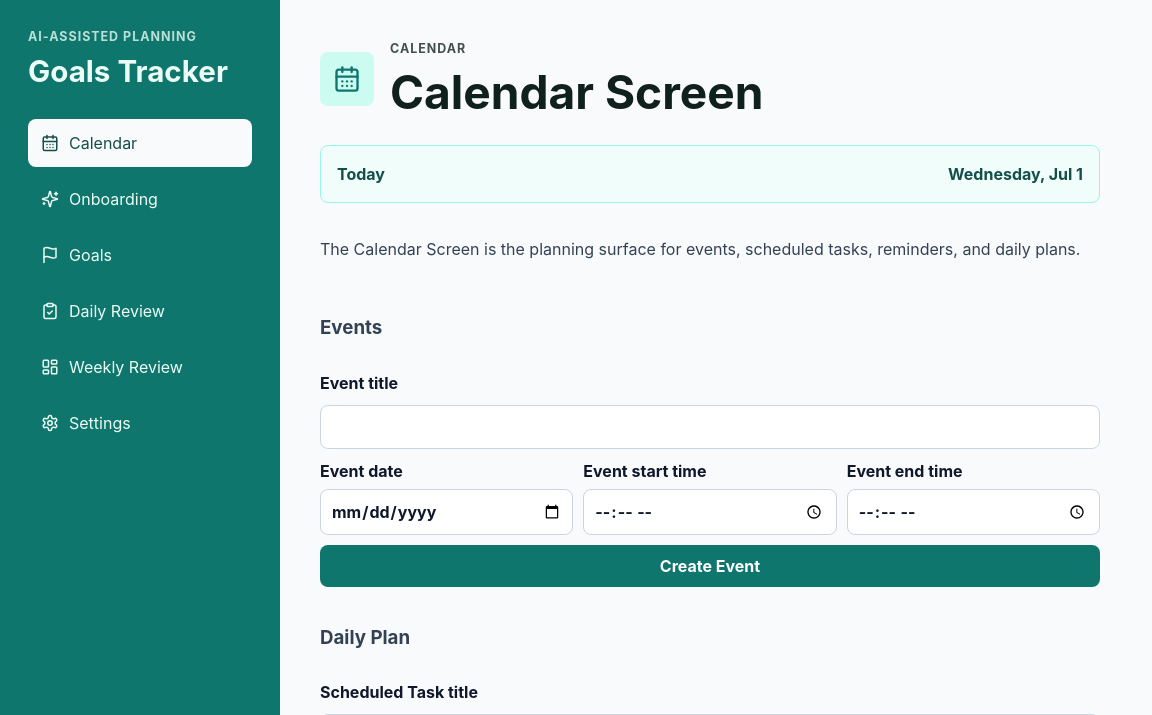
Test: Goals Tracker app shell › lets the user configure the global Reminder Offset and warns when notifications are disabled
Click the button "Settings": (140, 423) [28,399,252,447]
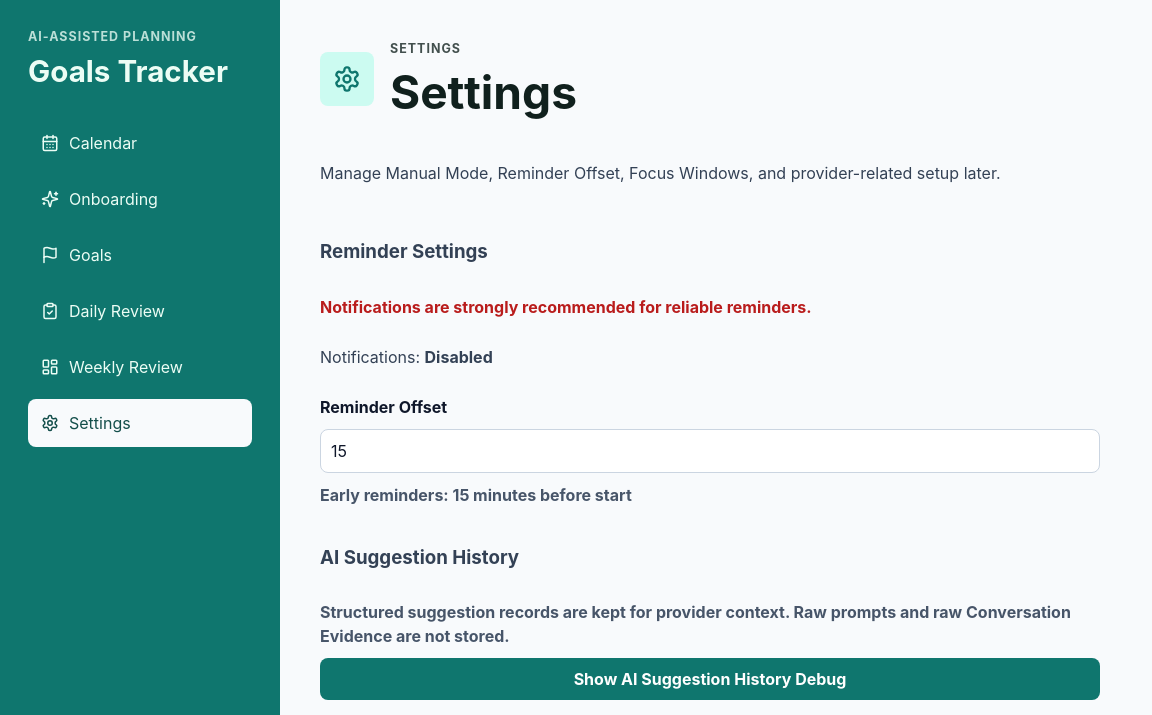
Check: the text "Notifications are strongly recommended for reliable reminders." is shown, box [320,297,812,317]
Check: the text "Notifications: Disabled" is shown, box [320,347,493,367]
Check: the text "Early reminders: 15 minutes before start" is shown, box [320,485,632,505]
Replace the text in the number field named "Reminder Offset" with "30": (710, 451) [320,429,1100,473]
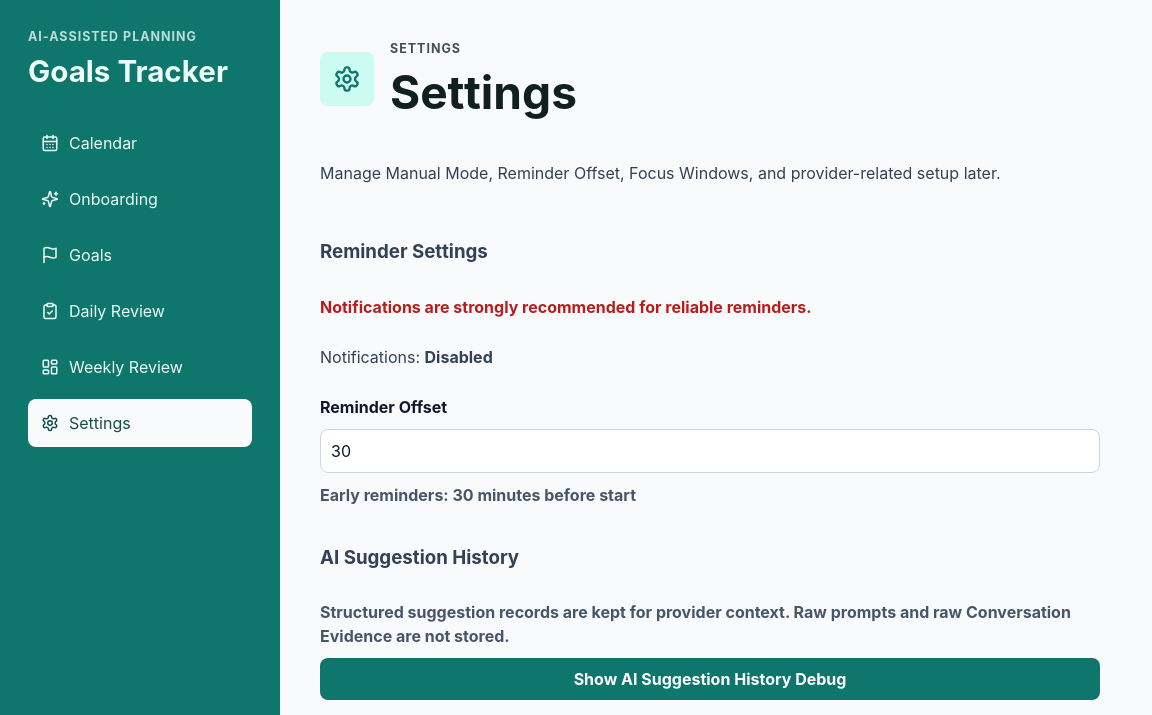
Check: the text "Early reminders: 30 minutes before start" is shown, box [320,485,636,505]
